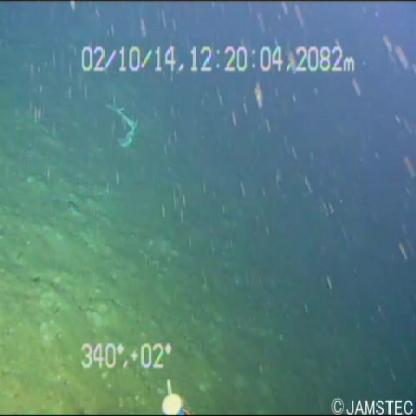Rov: (154, 373, 198, 416)
Rác: (88, 86, 155, 169)
